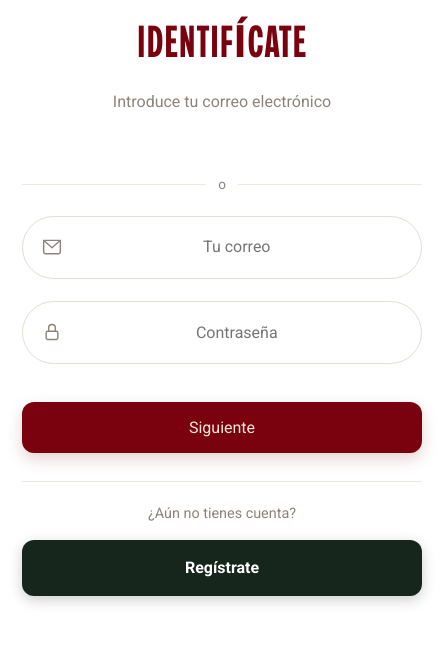
Scenario: Login page › shows server error message on login failure
In the field with placeholder "Tu correo": (237, 247) x1=72 y1=223 x2=402 y2=271, type "a@b.com"
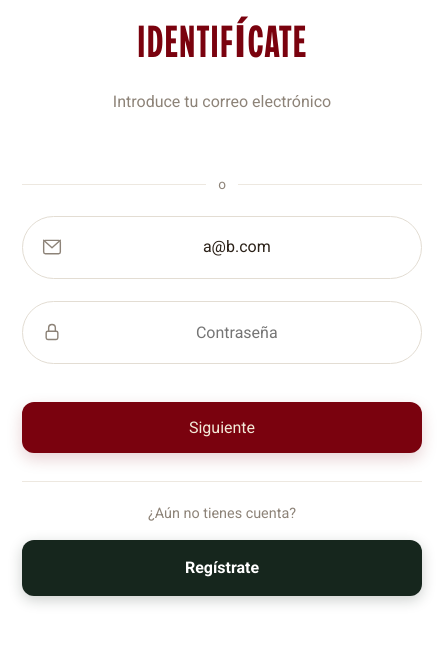
In the password field with placeholder "Contraseña": (237, 332) x1=72 y1=308 x2=402 y2=356, type "wrongpass"
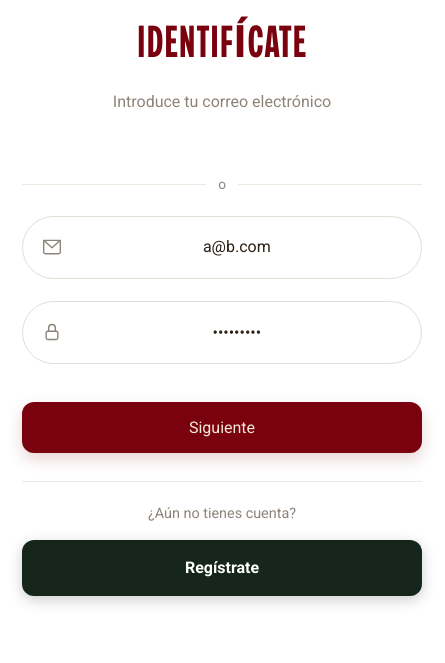
Submit the form with class "datos-form", box x1=22 y1=216 x2=422 y2=453
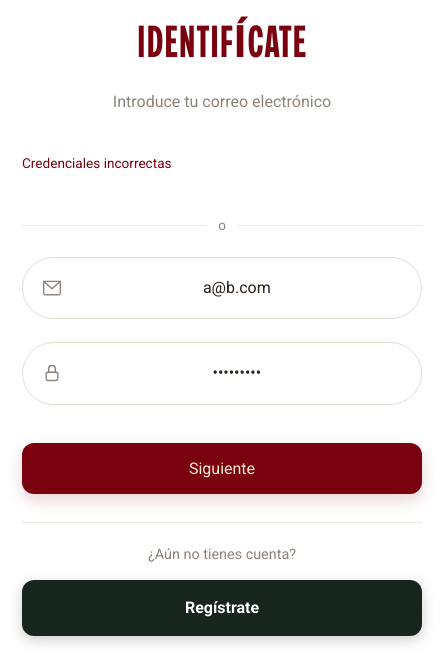
Check: the message reads "Credenciales incorrectas", box x1=22 y1=155 x2=172 y2=171
